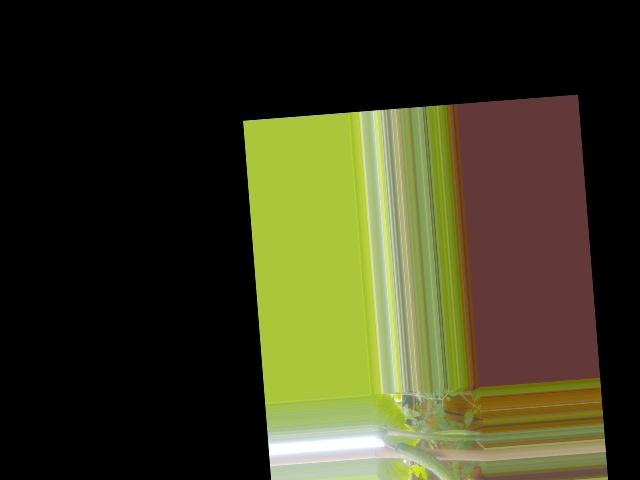cucumber: (394, 437, 472, 480)
